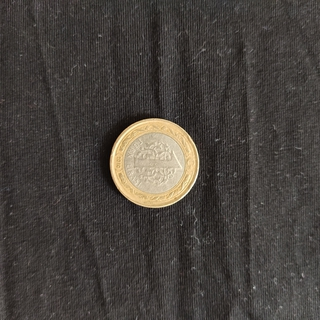1TL: (107, 115, 201, 209)
